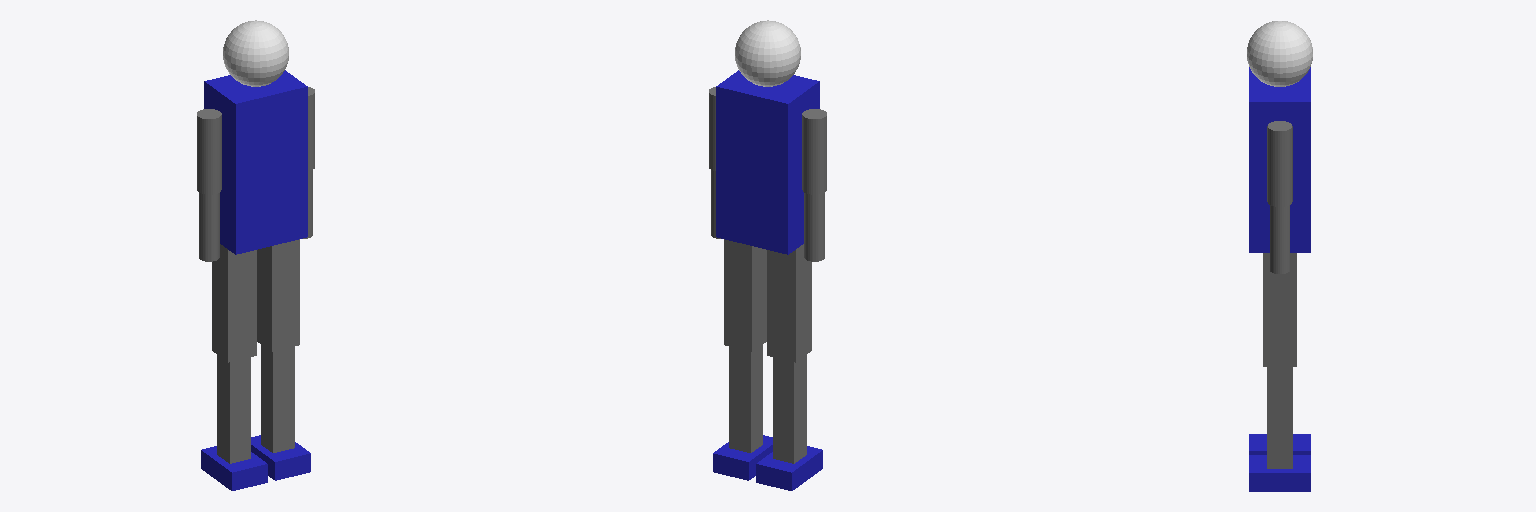
URDF robot description (simple_humanoid):
<?xml version="1.0"?>
<robot name="simple_humanoid">

  <!-- ==================== 世界根链接 ==================== -->
  <!-- base_link 位于地面，脚底与地面齐平 -->
  <link name="base_link"/>

  <joint name="base_to_torso" type="fixed">
    <parent link="base_link"/>
    <child link="torso"/>
    <!-- 脚底在 torso 坐标系下为 z≈-0.625，抬高 0.625m 使脚底刚好在 z=0 -->
    <origin xyz="0 0 0.625" rpy="0 0 0"/>
  </joint>

  <!-- 基础材质 -->
  <material name="blue">
    <color rgba="0.2 0.2 0.8 1.0"/>
  </material>
  <material name="grey">
    <color rgba="0.5 0.5 0.5 1.0"/>
  </material>
  <material name="white">
    <color rgba="0.9 0.9 0.9 1.0"/>
  </material>

  <!-- ==================== 躯干 ==================== -->
  <link name="torso">
    <visual>
      <geometry>
        <box size="0.2 0.15 0.4"/>
      </geometry>
      <origin xyz="0 0 0.2" rpy="0 0 0"/>
      <material name="blue"/>
    </visual>
    <collision>
      <geometry>
        <box size="0.2 0.15 0.4"/>
      </geometry>
      <origin xyz="0 0 0.2" rpy="0 0 0"/>
    </collision>
    <inertial>
      <mass value="5.0"/>
      <origin xyz="0 0 0.2" rpy="0 0 0"/>
      <inertia ixx="0.1" ixy="0" ixz="0" iyy="0.1" iyz="0" izz="0.05"/>
    </inertial>
  </link>

  <!-- ==================== 头部 ==================== -->
  <link name="head">
    <visual>
      <geometry>
        <sphere radius="0.08"/>
      </geometry>
      <origin xyz="0 0 0.08" rpy="0 0 0"/>
      <material name="white"/>
    </visual>
    <collision>
      <geometry>
        <sphere radius="0.08"/>
      </geometry>
      <origin xyz="0 0 0.08" rpy="0 0 0"/>
    </collision>
    <inertial>
      <mass value="0.5"/>
      <origin xyz="0 0 0.08" rpy="0 0 0"/>
      <inertia ixx="0.005" ixy="0" ixz="0" iyy="0.005" iyz="0" izz="0.005"/>
    </inertial>
  </link>

  <joint name="head_joint" type="fixed">
    <parent link="torso"/>
    <child link="head"/>
    <origin xyz="0 0 0.4" rpy="0 0 0"/>
  </joint>

  <!-- ==================== 左臂 ==================== -->
  <link name="left_upper_arm">
    <visual>
      <geometry>
        <cylinder length="0.2" radius="0.03"/>
      </geometry>
      <origin xyz="0 0 -0.1" rpy="0 0 0"/>
      <material name="grey"/>
    </visual>
    <collision>
      <geometry>
        <cylinder length="0.2" radius="0.03"/>
      </geometry>
      <origin xyz="0 0 -0.1" rpy="0 0 0"/>
    </collision>
    <inertial>
      <mass value="0.5"/>
      <origin xyz="0 0 -0.1" rpy="0 0 0"/>
      <inertia ixx="0.01" ixy="0" ixz="0" iyy="0.01" iyz="0" izz="0.001"/>
    </inertial>
  </link>

  <joint name="left_shoulder_pitch" type="revolute">
    <parent link="torso"/>
    <child link="left_upper_arm"/>
    <origin xyz="0.13 0 0.35" rpy="0 0 0"/>
    <axis xyz="1 0 0"/>
    <limit lower="-1.57" upper="1.57" effort="10" velocity="1.0"/>
  </joint>

  <link name="left_forearm">
    <visual>
      <geometry>
        <cylinder length="0.18" radius="0.025"/>
      </geometry>
      <origin xyz="0 0 -0.09" rpy="0 0 0"/>
      <material name="grey"/>
    </visual>
    <collision>
      <geometry>
        <cylinder length="0.18" radius="0.025"/>
      </geometry>
      <origin xyz="0 0 -0.09" rpy="0 0 0"/>
    </collision>
    <inertial>
      <mass value="0.3"/>
      <origin xyz="0 0 -0.09" rpy="0 0 0"/>
      <inertia ixx="0.005" ixy="0" ixz="0" iyy="0.005" iyz="0" izz="0.0005"/>
    </inertial>
  </link>

  <joint name="left_elbow" type="revolute">
    <parent link="left_upper_arm"/>
    <child link="left_forearm"/>
    <origin xyz="0 0 -0.2" rpy="0 0 0"/>
    <axis xyz="1 0 0"/>
    <limit lower="-2.0" upper="0" effort="10" velocity="1.0"/>
  </joint>

  <!-- ==================== 右臂 ==================== -->
  <link name="right_upper_arm">
    <visual>
      <geometry>
        <cylinder length="0.2" radius="0.03"/>
      </geometry>
      <origin xyz="0 0 -0.1" rpy="0 0 0"/>
      <material name="grey"/>
    </visual>
    <collision>
      <geometry>
        <cylinder length="0.2" radius="0.03"/>
      </geometry>
      <origin xyz="0 0 -0.1" rpy="0 0 0"/>
    </collision>
    <inertial>
      <mass value="0.5"/>
      <origin xyz="0 0 -0.1" rpy="0 0 0"/>
      <inertia ixx="0.01" ixy="0" ixz="0" iyy="0.01" iyz="0" izz="0.001"/>
    </inertial>
  </link>

  <joint name="right_shoulder_pitch" type="revolute">
    <parent link="torso"/>
    <child link="right_upper_arm"/>
    <origin xyz="-0.13 0 0.35" rpy="0 0 0"/>
    <axis xyz="1 0 0"/>
    <limit lower="-1.57" upper="1.57" effort="10" velocity="1.0"/>
  </joint>

  <link name="right_forearm">
    <visual>
      <geometry>
        <cylinder length="0.18" radius="0.025"/>
      </geometry>
      <origin xyz="0 0 -0.09" rpy="0 0 0"/>
      <material name="grey"/>
    </visual>
    <collision>
      <geometry>
        <cylinder length="0.18" radius="0.025"/>
      </geometry>
      <origin xyz="0 0 -0.09" rpy="0 0 0"/>
    </collision>
    <inertial>
      <mass value="0.3"/>
      <origin xyz="0 0 -0.09" rpy="0 0 0"/>
      <inertia ixx="0.005" ixy="0" ixz="0" iyy="0.005" iyz="0" izz="0.0005"/>
    </inertial>
  </link>

  <joint name="right_elbow" type="revolute">
    <parent link="right_upper_arm"/>
    <child link="right_forearm"/>
    <origin xyz="0 0 -0.2" rpy="0 0 0"/>
    <axis xyz="1 0 0"/>
    <limit lower="-2.0" upper="0" effort="10" velocity="1.0"/>
  </joint>

  <!-- ==================== 左腿 ==================== -->
  <link name="left_thigh">
    <visual>
      <geometry>
        <box size="0.08 0.08 0.3"/>
      </geometry>
      <origin xyz="0 0 -0.15" rpy="0 0 0"/>
      <material name="grey"/>
    </visual>
    <collision>
      <geometry>
        <box size="0.08 0.08 0.3"/>
      </geometry>
      <origin xyz="0 0 -0.15" rpy="0 0 0"/>
    </collision>
    <inertial>
      <mass value="1.0"/>
      <origin xyz="0 0 -0.15" rpy="0 0 0"/>
      <inertia ixx="0.02" ixy="0" ixz="0" iyy="0.02" iyz="0" izz="0.005"/>
    </inertial>
  </link>

  <joint name="left_hip_pitch" type="revolute">
    <parent link="torso"/>
    <child link="left_thigh"/>
    <origin xyz="0.06 0 0" rpy="0 0 0"/>
    <axis xyz="1 0 0"/>
    <limit lower="-1.57" upper="1.57" effort="20" velocity="1.0"/>
  </joint>

  <link name="left_shin">
    <visual>
      <geometry>
        <box size="0.06 0.06 0.3"/>
      </geometry>
      <origin xyz="0 0 -0.15" rpy="0 0 0"/>
      <material name="grey"/>
    </visual>
    <collision>
      <geometry>
        <box size="0.06 0.06 0.3"/>
      </geometry>
      <origin xyz="0 0 -0.15" rpy="0 0 0"/>
    </collision>
    <inertial>
      <mass value="0.8"/>
      <origin xyz="0 0 -0.15" rpy="0 0 0"/>
      <inertia ixx="0.015" ixy="0" ixz="0" iyy="0.015" iyz="0" izz="0.003"/>
    </inertial>
  </link>

  <joint name="left_knee" type="revolute">
    <parent link="left_thigh"/>
    <child link="left_shin"/>
    <origin xyz="0 0 -0.3" rpy="0 0 0"/>
    <axis xyz="1 0 0"/>
    <limit lower="0" upper="2.0" effort="20" velocity="1.0"/>
  </joint>

  <link name="left_foot">
    <visual>
      <geometry>
        <box size="0.1 0.15 0.05"/>
      </geometry>
      <origin xyz="0 0 0" rpy="0 0 0"/>
      <material name="blue"/>
    </visual>
    <collision>
      <geometry>
        <box size="0.1 0.15 0.05"/>
      </geometry>
      <origin xyz="0 0 0" rpy="0 0 0"/>
    </collision>
    <inertial>
      <mass value="0.3"/>
      <origin xyz="0 0 0" rpy="0 0 0"/>
      <inertia ixx="0.001" ixy="0" ixz="0" iyy="0.002" iyz="0" izz="0.002"/>
    </inertial>
  </link>

  <joint name="left_ankle" type="fixed">
    <parent link="left_shin"/>
    <child link="left_foot"/>
    <origin xyz="0 0 -0.3" rpy="0 0 0"/>
  </joint>

  <!-- ==================== 右腿 ==================== -->
  <link name="right_thigh">
    <visual>
      <geometry>
        <box size="0.08 0.08 0.3"/>
      </geometry>
      <origin xyz="0 0 -0.15" rpy="0 0 0"/>
      <material name="grey"/>
    </visual>
    <collision>
      <geometry>
        <box size="0.08 0.08 0.3"/>
      </geometry>
      <origin xyz="0 0 -0.15" rpy="0 0 0"/>
    </collision>
    <inertial>
      <mass value="1.0"/>
      <origin xyz="0 0 -0.15" rpy="0 0 0"/>
      <inertia ixx="0.02" ixy="0" ixz="0" iyy="0.02" iyz="0" izz="0.005"/>
    </inertial>
  </link>

  <joint name="right_hip_pitch" type="revolute">
    <parent link="torso"/>
    <child link="right_thigh"/>
    <origin xyz="-0.06 0 0" rpy="0 0 0"/>
    <axis xyz="1 0 0"/>
    <limit lower="-1.57" upper="1.57" effort="20" velocity="1.0"/>
  </joint>

  <link name="right_shin">
    <visual>
      <geometry>
        <box size="0.06 0.06 0.3"/>
      </geometry>
      <origin xyz="0 0 -0.15" rpy="0 0 0"/>
      <material name="grey"/>
    </visual>
    <collision>
      <geometry>
        <box size="0.06 0.06 0.3"/>
      </geometry>
      <origin xyz="0 0 -0.15" rpy="0 0 0"/>
    </collision>
    <inertial>
      <mass value="0.8"/>
      <origin xyz="0 0 -0.15" rpy="0 0 0"/>
      <inertia ixx="0.015" ixy="0" ixz="0" iyy="0.015" iyz="0" izz="0.003"/>
    </inertial>
  </link>

  <joint name="right_knee" type="revolute">
    <parent link="right_thigh"/>
    <child link="right_shin"/>
    <origin xyz="0 0 -0.3" rpy="0 0 0"/>
    <axis xyz="1 0 0"/>
    <limit lower="0" upper="2.0" effort="20" velocity="1.0"/>
  </joint>

  <link name="right_foot">
    <visual>
      <geometry>
        <box size="0.1 0.15 0.05"/>
      </geometry>
      <origin xyz="0 0 0" rpy="0 0 0"/>
      <material name="blue"/>
    </visual>
    <collision>
      <geometry>
        <box size="0.1 0.15 0.05"/>
      </geometry>
      <origin xyz="0 0 0" rpy="0 0 0"/>
    </collision>
    <inertial>
      <mass value="0.3"/>
      <origin xyz="0 0 0" rpy="0 0 0"/>
      <inertia ixx="0.001" ixy="0" ixz="0" iyy="0.002" iyz="0" izz="0.002"/>
    </inertial>
  </link>

  <joint name="right_ankle" type="fixed">
    <parent link="right_shin"/>
    <child link="right_foot"/>
    <origin xyz="0 0 -0.3" rpy="0 0 0"/>
  </joint>

  <!-- ==================== Gazebo扩展 ==================== -->
  <gazebo reference="torso">
    <material>Gazebo/Blue</material>
    <mu1>0.5</mu1>
    <mu2>0.5</mu2>
  </gazebo>

  <gazebo reference="left_foot">
    <mu1>1.0</mu1>
    <mu2>1.0</mu2>
  </gazebo>

  <gazebo reference="right_foot">
    <mu1>1.0</mu1>
    <mu2>1.0</mu2>
  </gazebo>

</robot>

--- What the picture shows (computed from the rendered views, not written in the file) ---
Views: 3 orthographic renders of the robot side by side, from view 1: azimuth 30°, elevation 25°; view 2: azimuth 150°, elevation 25°; view 3: azimuth 270°, elevation 25°.
Model simple_humanoid with 13 links and 12 joints (8 revolute, 4 fixed), rooted at base_link, posed all joints at 0.
Visible links, largest first — view 1: torso, right_thigh, left_thigh, head, left_shin, right_shin, right_upper_arm, right_foot, left_foot, right_forearm, left_upper_arm; view 2: torso, right_thigh, left_thigh, head, left_shin, right_shin, right_upper_arm, right_foot, left_foot, right_forearm, left_upper_arm; view 3: torso, head, left_thigh, left_shin, left_upper_arm, left_foot, left_forearm, right_foot.
Link boxes in pixels (x1,y1,x2,y2): torso: [204, 70, 307, 254]; right_thigh: [212, 244, 256, 362]; left_thigh: [257, 239, 299, 351]; head: [223, 20, 288, 86]; left_shin: [261, 345, 294, 452]; right_shin: [217, 355, 250, 463]; right_upper_arm: [197, 109, 221, 194]; right_foot: [201, 446, 267, 490]; left_foot: [251, 435, 310, 480]; right_forearm: [199, 193, 219, 261]; left_upper_arm: [308, 87, 314, 170]; torso: [716, 70, 819, 254]; right_thigh: [767, 244, 811, 362]; left_thigh: [724, 239, 766, 351]; head: [735, 20, 800, 86]; left_shin: [729, 345, 762, 452]; right_shin: [773, 355, 806, 463]; right_upper_arm: [802, 109, 826, 194]; right_foot: [756, 446, 822, 490]; left_foot: [713, 435, 772, 480]; right_forearm: [804, 193, 824, 261]; left_upper_arm: [709, 87, 715, 170]; torso: [1249, 67, 1310, 252]; head: [1247, 21, 1312, 86]; left_thigh: [1263, 253, 1296, 366]; left_shin: [1267, 367, 1292, 468]; left_upper_arm: [1267, 121, 1292, 206]; left_foot: [1249, 455, 1310, 491]; left_forearm: [1270, 205, 1289, 273]; right_foot: [1249, 434, 1310, 454].
Size in the robot's own frame: 0.32 by 0.16 by 1.19 metres.
Geometry: primitives only (box / cylinder / sphere), no mesh files.
